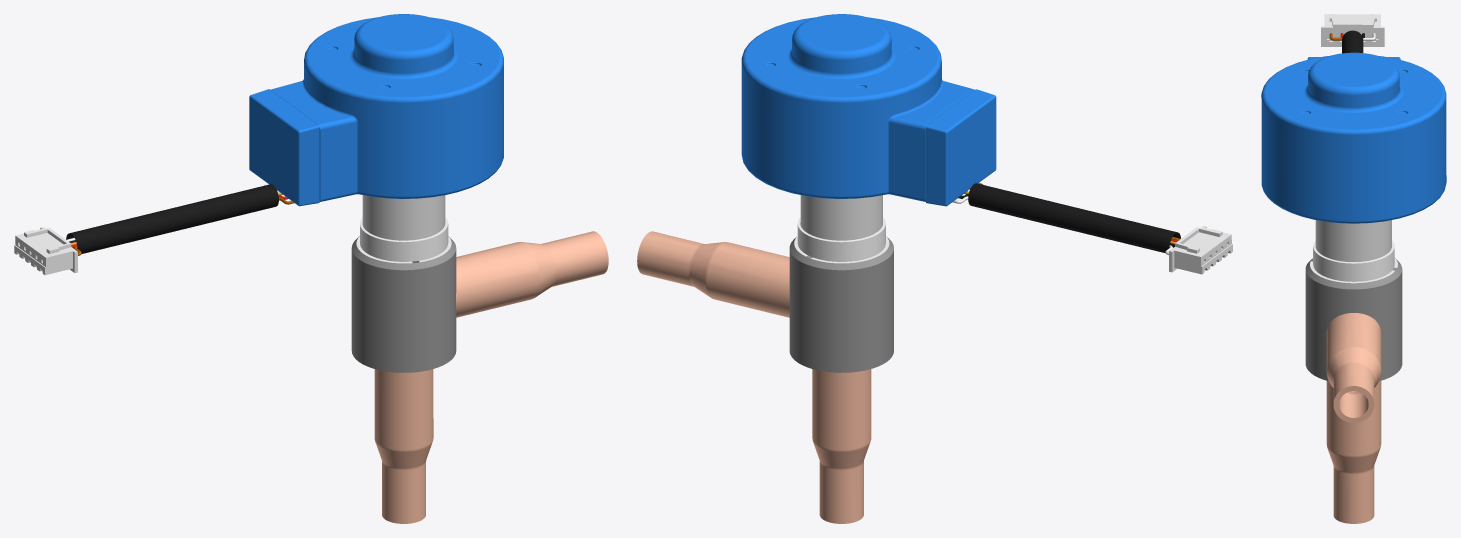
File: EST 8M.glb
3 renders of one model, left to right at view 1: azimuth 30°, elevation 25°; view 2: azimuth 150°, elevation 25°; view 3: azimuth 270°, elevation 25°, orthographic. The views are drawn at different scales.
Parts seen in each view (by area): view 1: Solid1.010, Solid1.001; view 2: Solid1.010, Solid1.001; view 3: Solid1.010, Solid1.001.
Part boxes in pixels (left/top/right/bottom): Solid1.010: left=14, top=14, right=503, bottom=372; Solid1.001: left=362, top=195, right=608, bottom=523; Solid1.010: left=741, top=14, right=1232, bottom=372; Solid1.001: left=637, top=195, right=882, bottom=523; Solid1.010: left=1261, top=14, right=1446, bottom=523; Solid1.001: left=1315, top=220, right=1391, bottom=523.
Size of the model in its own units: 0.1413 by 0.1144 by 0.0431.
